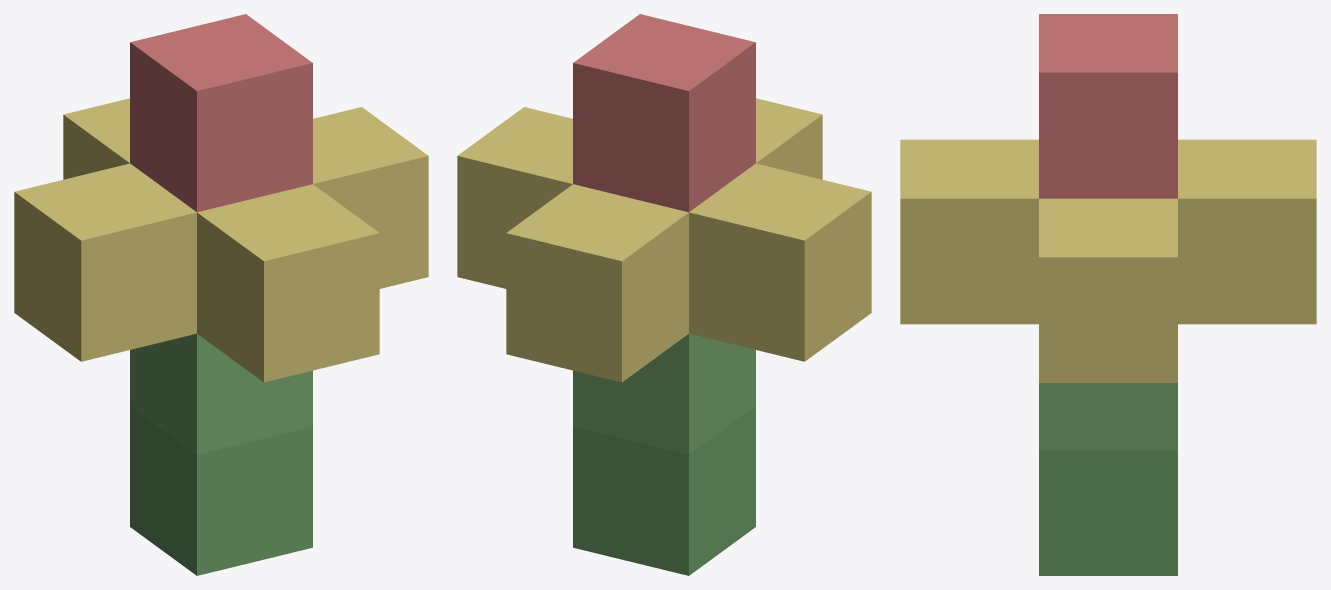
Rendered from fleur_1.glb.
The picture shows the model from 3 angles, left to right: view 1: azimuth 30°, elevation 25°; view 2: azimuth 150°, elevation 25°; view 3: azimuth 270°, elevation 25°; orthographic projection. The views are drawn at different scales.
Parts seen in each view (by area): view 1: geometry_0; view 2: geometry_0; view 3: geometry_0.
Part boxes in pixels (<box>): geometry_0: <box>14,14,428,575</box>; geometry_0: <box>457,14,871,575</box>; geometry_0: <box>900,14,1316,575</box>.
Bounding box in the file's own units: 0.375 × 0.5 × 0.375.
